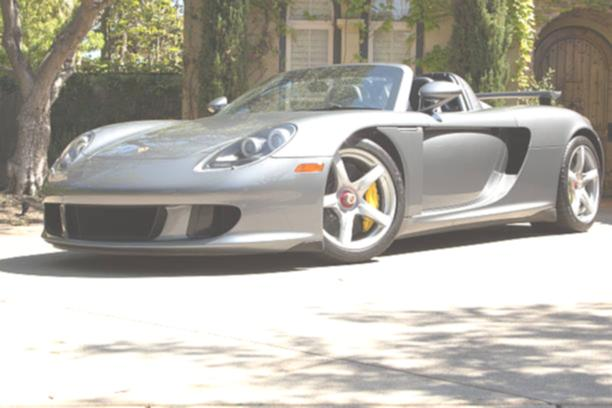porsche: (132, 143, 153, 156)
